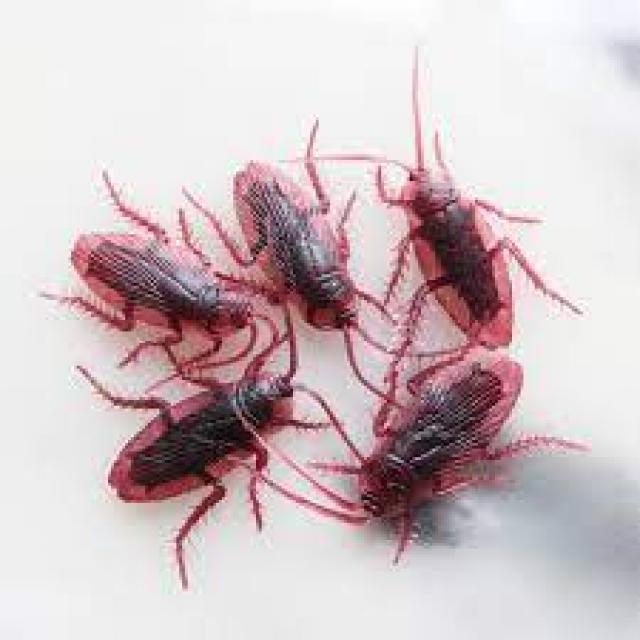Cockroach: (334, 43, 577, 404), (72, 294, 340, 595), (302, 308, 578, 586), (38, 178, 292, 404), (197, 117, 388, 360)
